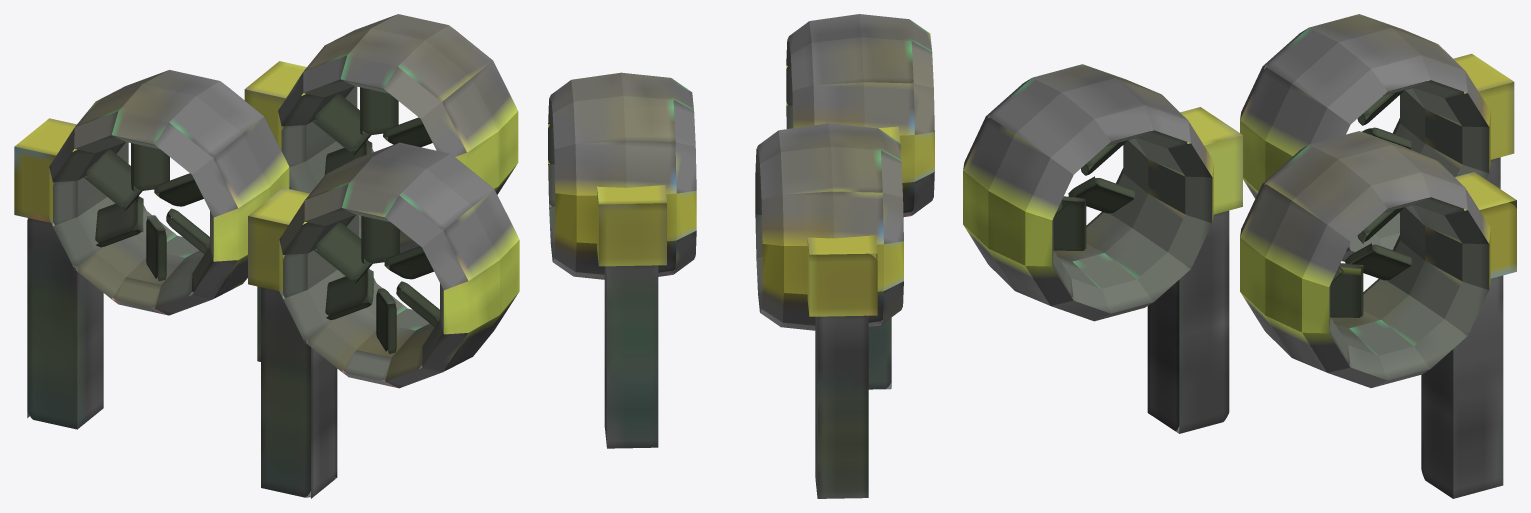
The model's file is fanmodel.fbx.
3 views of the same model, side by side, from view 1: azimuth 30°, elevation 25°; view 2: azimuth 150°, elevation 25°; view 3: azimuth 270°, elevation 25° (orthographic). The views are drawn at different scales.
Parts seen in each view (by area): view 1: torus_2, torus, torus_1, mesh_21, mesh_22, group2, group3, group, mesh_19, mesh_18, mesh_20; view 2: torus, torus_1, torus_2, mesh_23, mesh_21, mesh_19, mesh_20, mesh_22; view 3: torus_1, torus_2, torus, mesh_22, mesh_23, group, group3, mesh_18, mesh_20, mesh_19, group2.
Boxes of the visible parts, x1,y1,x2,y2 form: torus_2: (279,142,519,388); torus: (49,70,289,315); torus_1: (278,14,518,253); mesh_21: (27,218,103,429); mesh_22: (261,287,337,498); group2: (83,143,209,281); group3: (313,216,439,353); group: (312,87,432,175); mesh_19: (14,118,77,222); mesh_18: (248,187,309,290); mesh_20: (244,61,306,142); torus: (755,123,903,330); torus_1: (548,72,696,279); torus_2: (786,14,934,217); mesh_23: (604,265,658,448); mesh_21: (815,315,868,498); mesh_19: (807,235,877,316); mesh_20: (597,185,666,266); mesh_22: (868,317,891,389); torus_1: (1240,131,1490,387); torus_2: (963,64,1213,321); torus: (1240,14,1490,261); mesh_22: (1147,210,1229,433); mesh_23: (1421,275,1503,498); group: (1330,207,1411,317); group3: (1053,140,1134,250); mesh_18: (1151,107,1242,214); mesh_20: (1429,172,1516,278); mesh_19: (1428,53,1514,159); group2: (1357,90,1411,149).
Size of the model in its own units: 413 by 312 by 438.
1 material, 1 textured.
